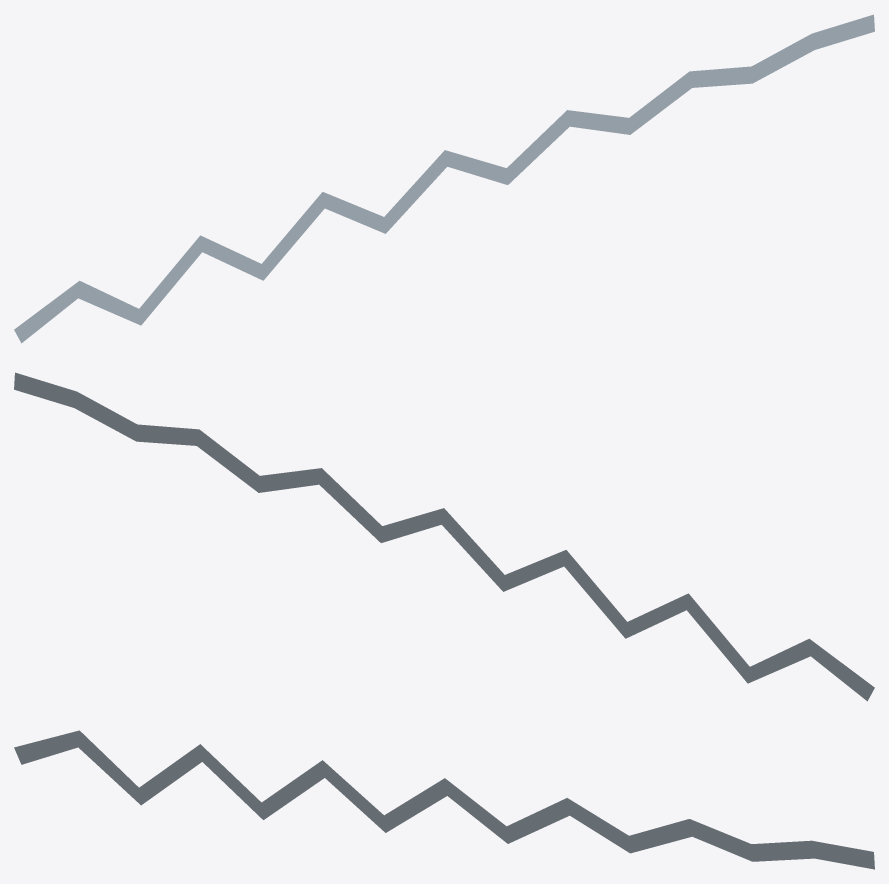
File: 2029_HighVoltageArc_SynchronizedArc0Aura.fbx
3 renders of one model, top to bottom at view 1: azimuth 30°, elevation 25°; view 2: azimuth 150°, elevation 25°; view 3: azimuth 330°, elevation 25°, orthographic.
Parts seen in each view (by area): view 1: PART_SynchronizedArc0Aura; view 2: PART_SynchronizedArc0Aura; view 3: PART_SynchronizedArc0Aura.
Boxes of the visible parts, <box> form: PART_SynchronizedArc0Aura: <box>14,14,874,343</box>; PART_SynchronizedArc0Aura: <box>14,372,874,701</box>; PART_SynchronizedArc0Aura: <box>14,730,874,869</box>.
Size of the model in its own units: 351 by 51.57 by 8.4e-06.
